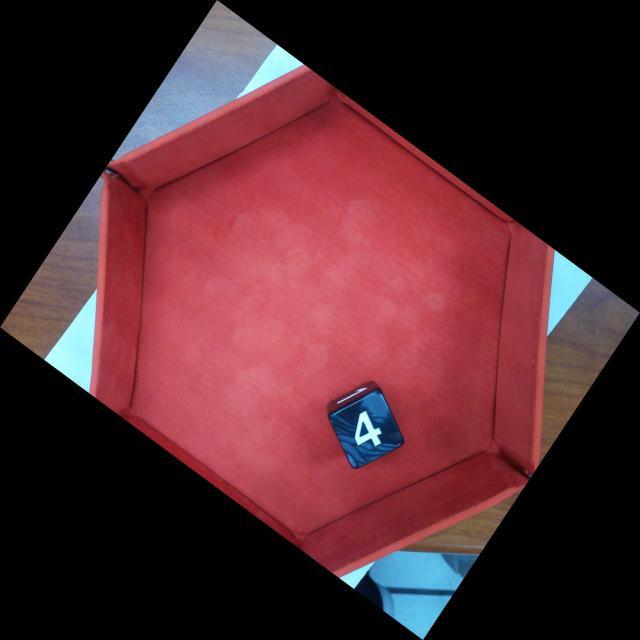dice: (328, 389, 404, 469)
